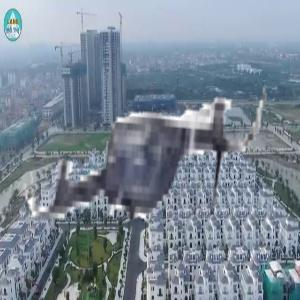drone: (15, 36, 269, 290)
